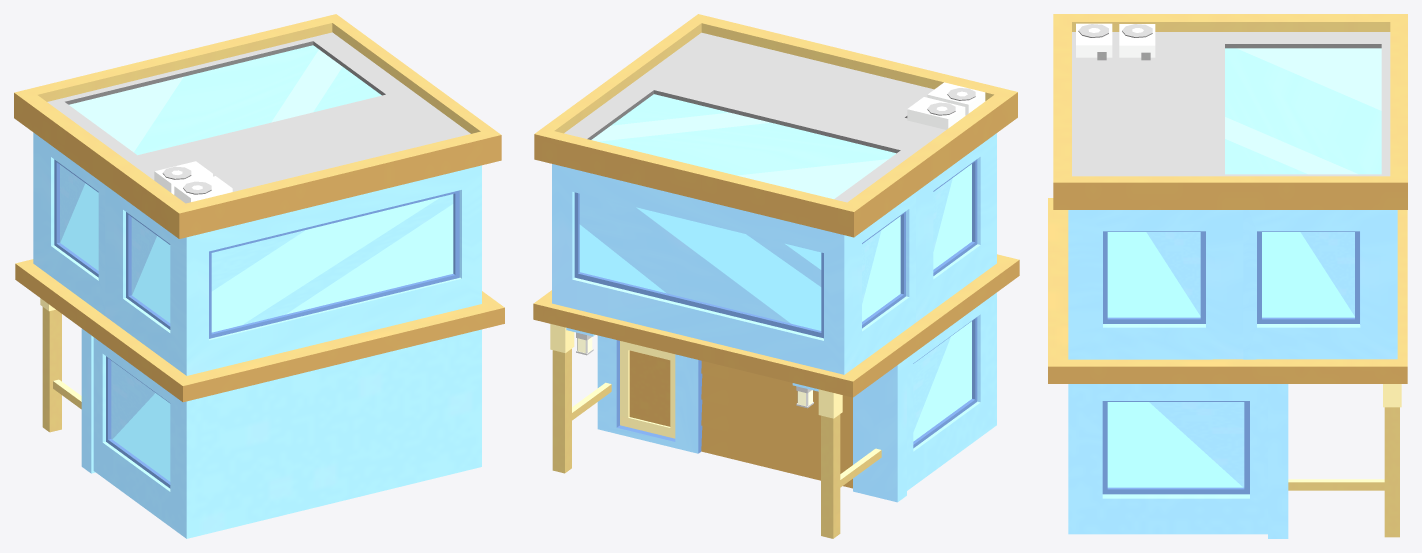
File: dwelling modern.006.glb
3 renders of one model, left to right at view 1: azimuth 30°, elevation 25°; view 2: azimuth 150°, elevation 25°; view 3: azimuth 270°, elevation 25°, orthographic. The views are drawn at different scales.
Parts seen in each view (by area): view 1: dwelling modern.006(Clone); view 2: dwelling modern.006(Clone); view 3: dwelling modern.006(Clone).
Boxes of the visible parts, <box> form: dwelling modern.006(Clone): <box>14,14,504,538</box>; dwelling modern.006(Clone): <box>533,14,1019,538</box>; dwelling modern.006(Clone): <box>1048,14,1407,538</box>.
Size of the model in its own units: 6.29 by 6.34 by 5.66.
Materials: 1 (1 with a texture image).
